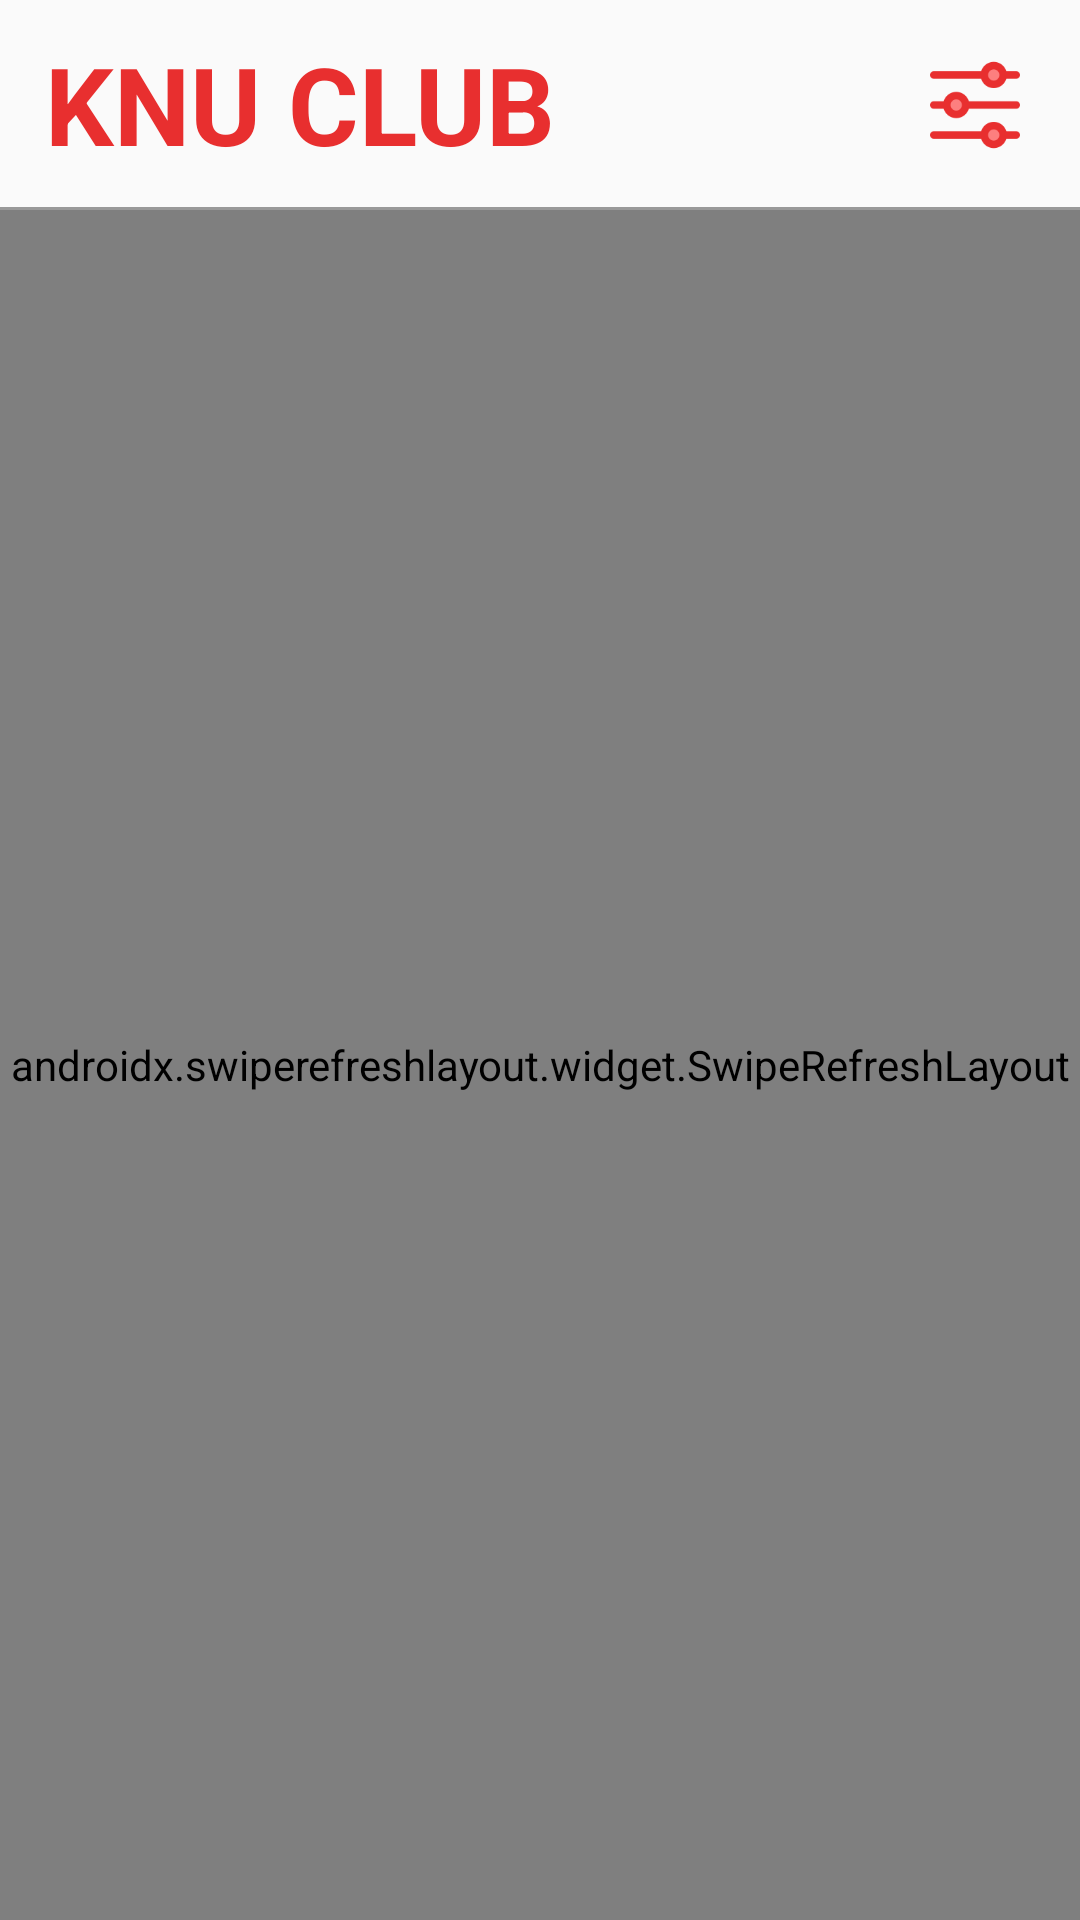

Screen size 1080 × 1920. Icon name, then its center in pixels as [x,y]:
filter: [975,105]
